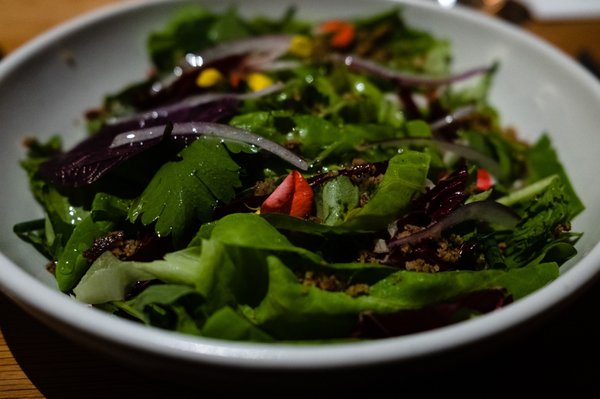sushi: (2, 1, 549, 383)
